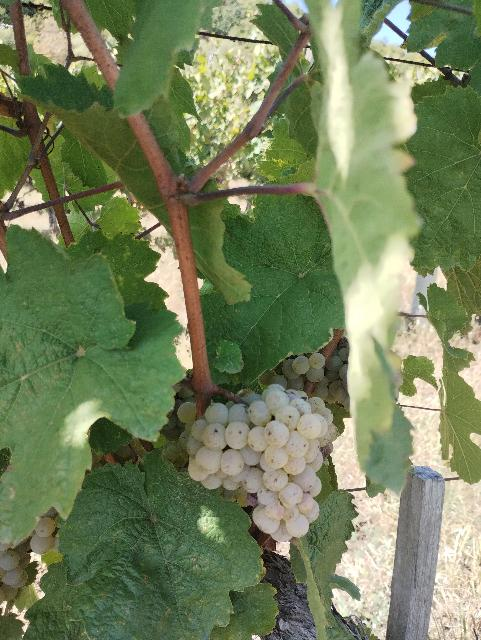grapes: (186, 384, 339, 541)
